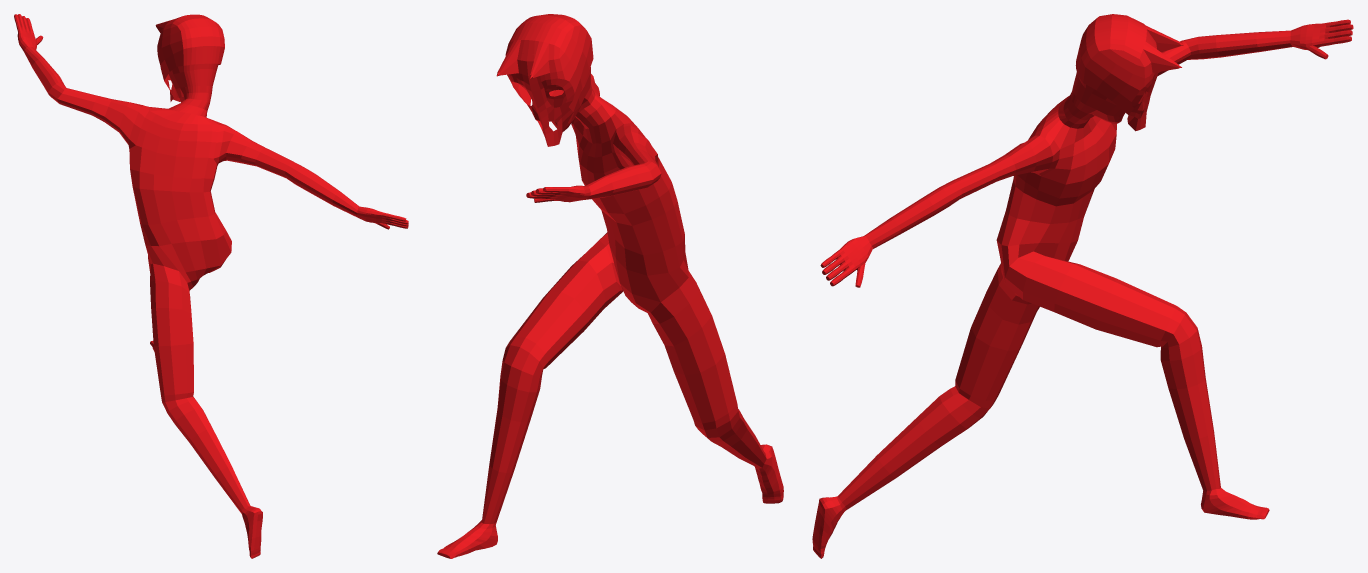
Rendered from saltoadelanteE_000112.obj.
3 renders of one model, left to right at view 1: azimuth 30°, elevation 25°; view 2: azimuth 150°, elevation 25°; view 3: azimuth 270°, elevation 25°, orthographic. The views are drawn at different scales.
Parts seen in each view (by area): view 1: Plane.002_Plane.001; view 2: Plane.002_Plane.001; view 3: Plane.002_Plane.001.
Boxes of the visible parts, x1,y1,x2,y2 form: Plane.002_Plane.001: (14, 14, 408, 558); Plane.002_Plane.001: (437, 14, 783, 558); Plane.002_Plane.001: (812, 14, 1353, 558).
Size of the model in its own units: 3.34 by 6.5 by 5.6.
